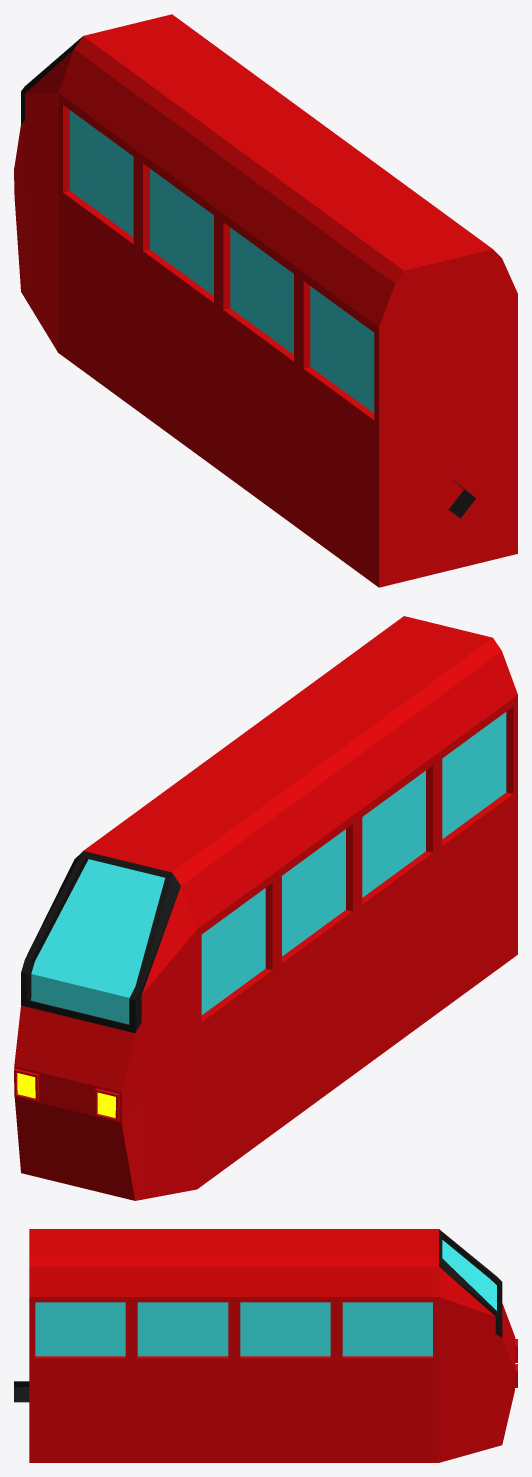
File: trainPuller.dae
3 renders of one model, top to bottom at view 1: azimuth 30°, elevation 25°; view 2: azimuth 150°, elevation 25°; view 3: azimuth 270°, elevation 25°, orthographic. The views are drawn at different scales.
Visible parts, largest first — view 1: TrainPuller; view 2: TrainPuller; view 3: TrainPuller.
Part boxes in pixels (x1,y1,x2,y2): TrainPuller: [14, 14, 517, 587]; TrainPuller: [14, 616, 517, 1200]; TrainPuller: [14, 1229, 517, 1462].
Bounding box in the file's own units: 2 × 9.84 × 4.28.
